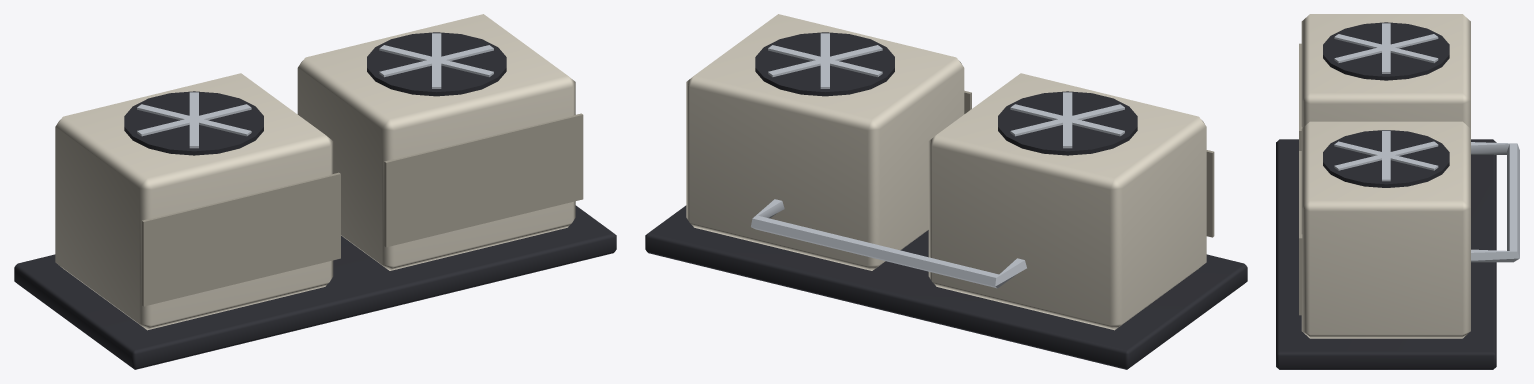
The model's file is rooftop_ac_pair.glb.
3 views of the same model, side by side, from view 1: azimuth 30°, elevation 25°; view 2: azimuth 150°, elevation 25°; view 3: azimuth 270°, elevation 25° (orthographic). The views are drawn at different scales.
Parts seen in each view (by area): view 1: rooftop_ac_pair; view 2: rooftop_ac_pair; view 3: rooftop_ac_pair.
Part boxes in pixels (x1,y1,x2,y2): rooftop_ac_pair: (14, 14, 616, 369); rooftop_ac_pair: (645, 14, 1247, 369); rooftop_ac_pair: (1276, 14, 1519, 369).
Bounding box in the file's own units: 3 × 1.06 × 1.44.
